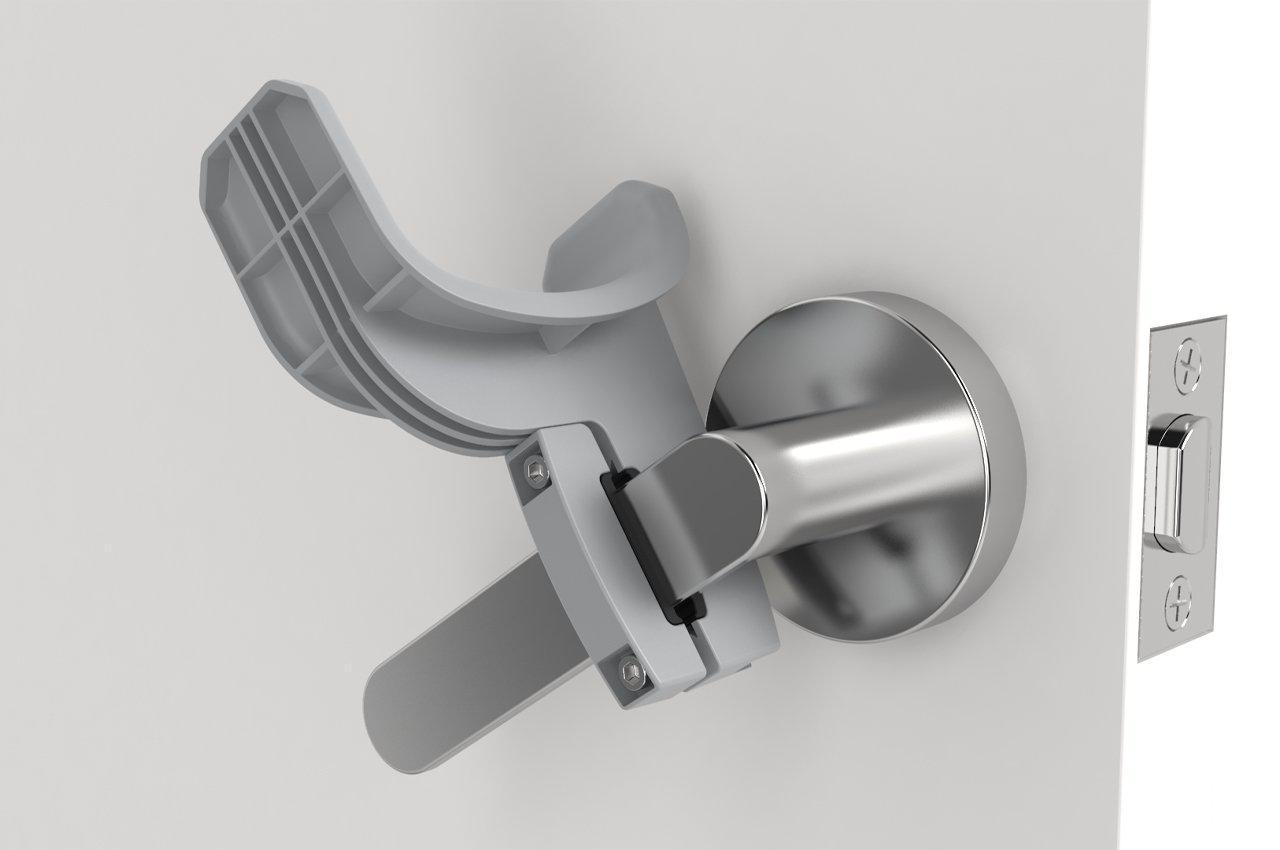doorhandle: (145, 70, 1091, 777)
